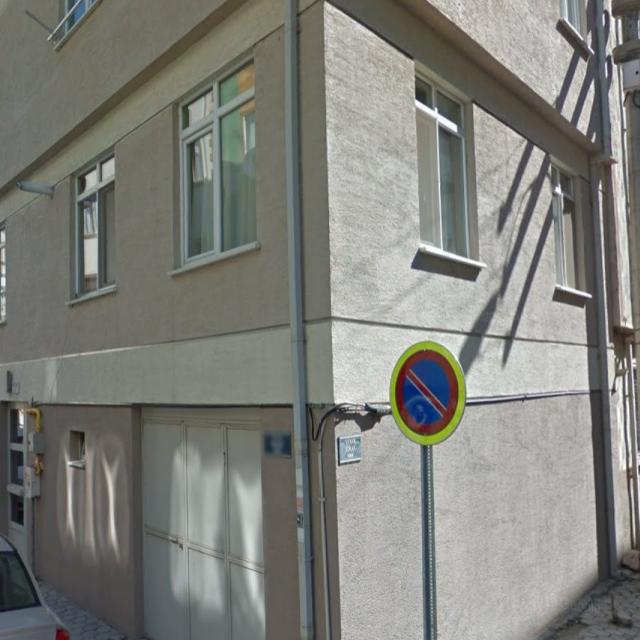parkyasak: (395, 349, 459, 435)
